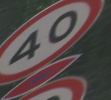Speed limit: (0, 0, 103, 84)
